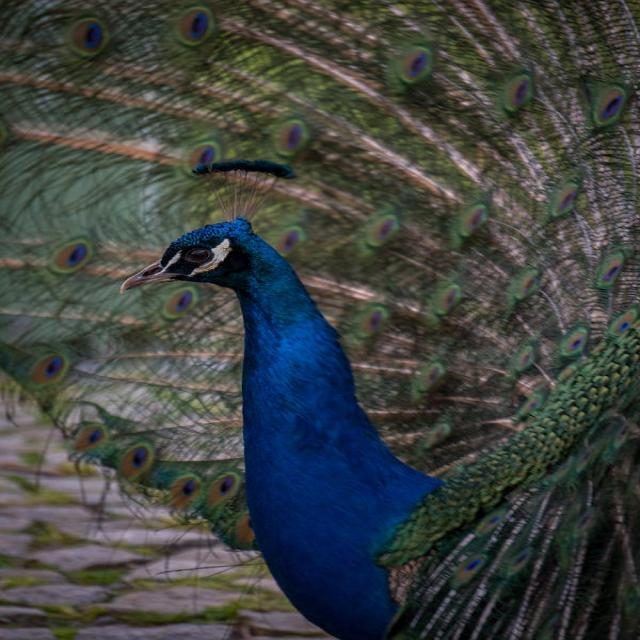peacock: (102, 151, 520, 630)
